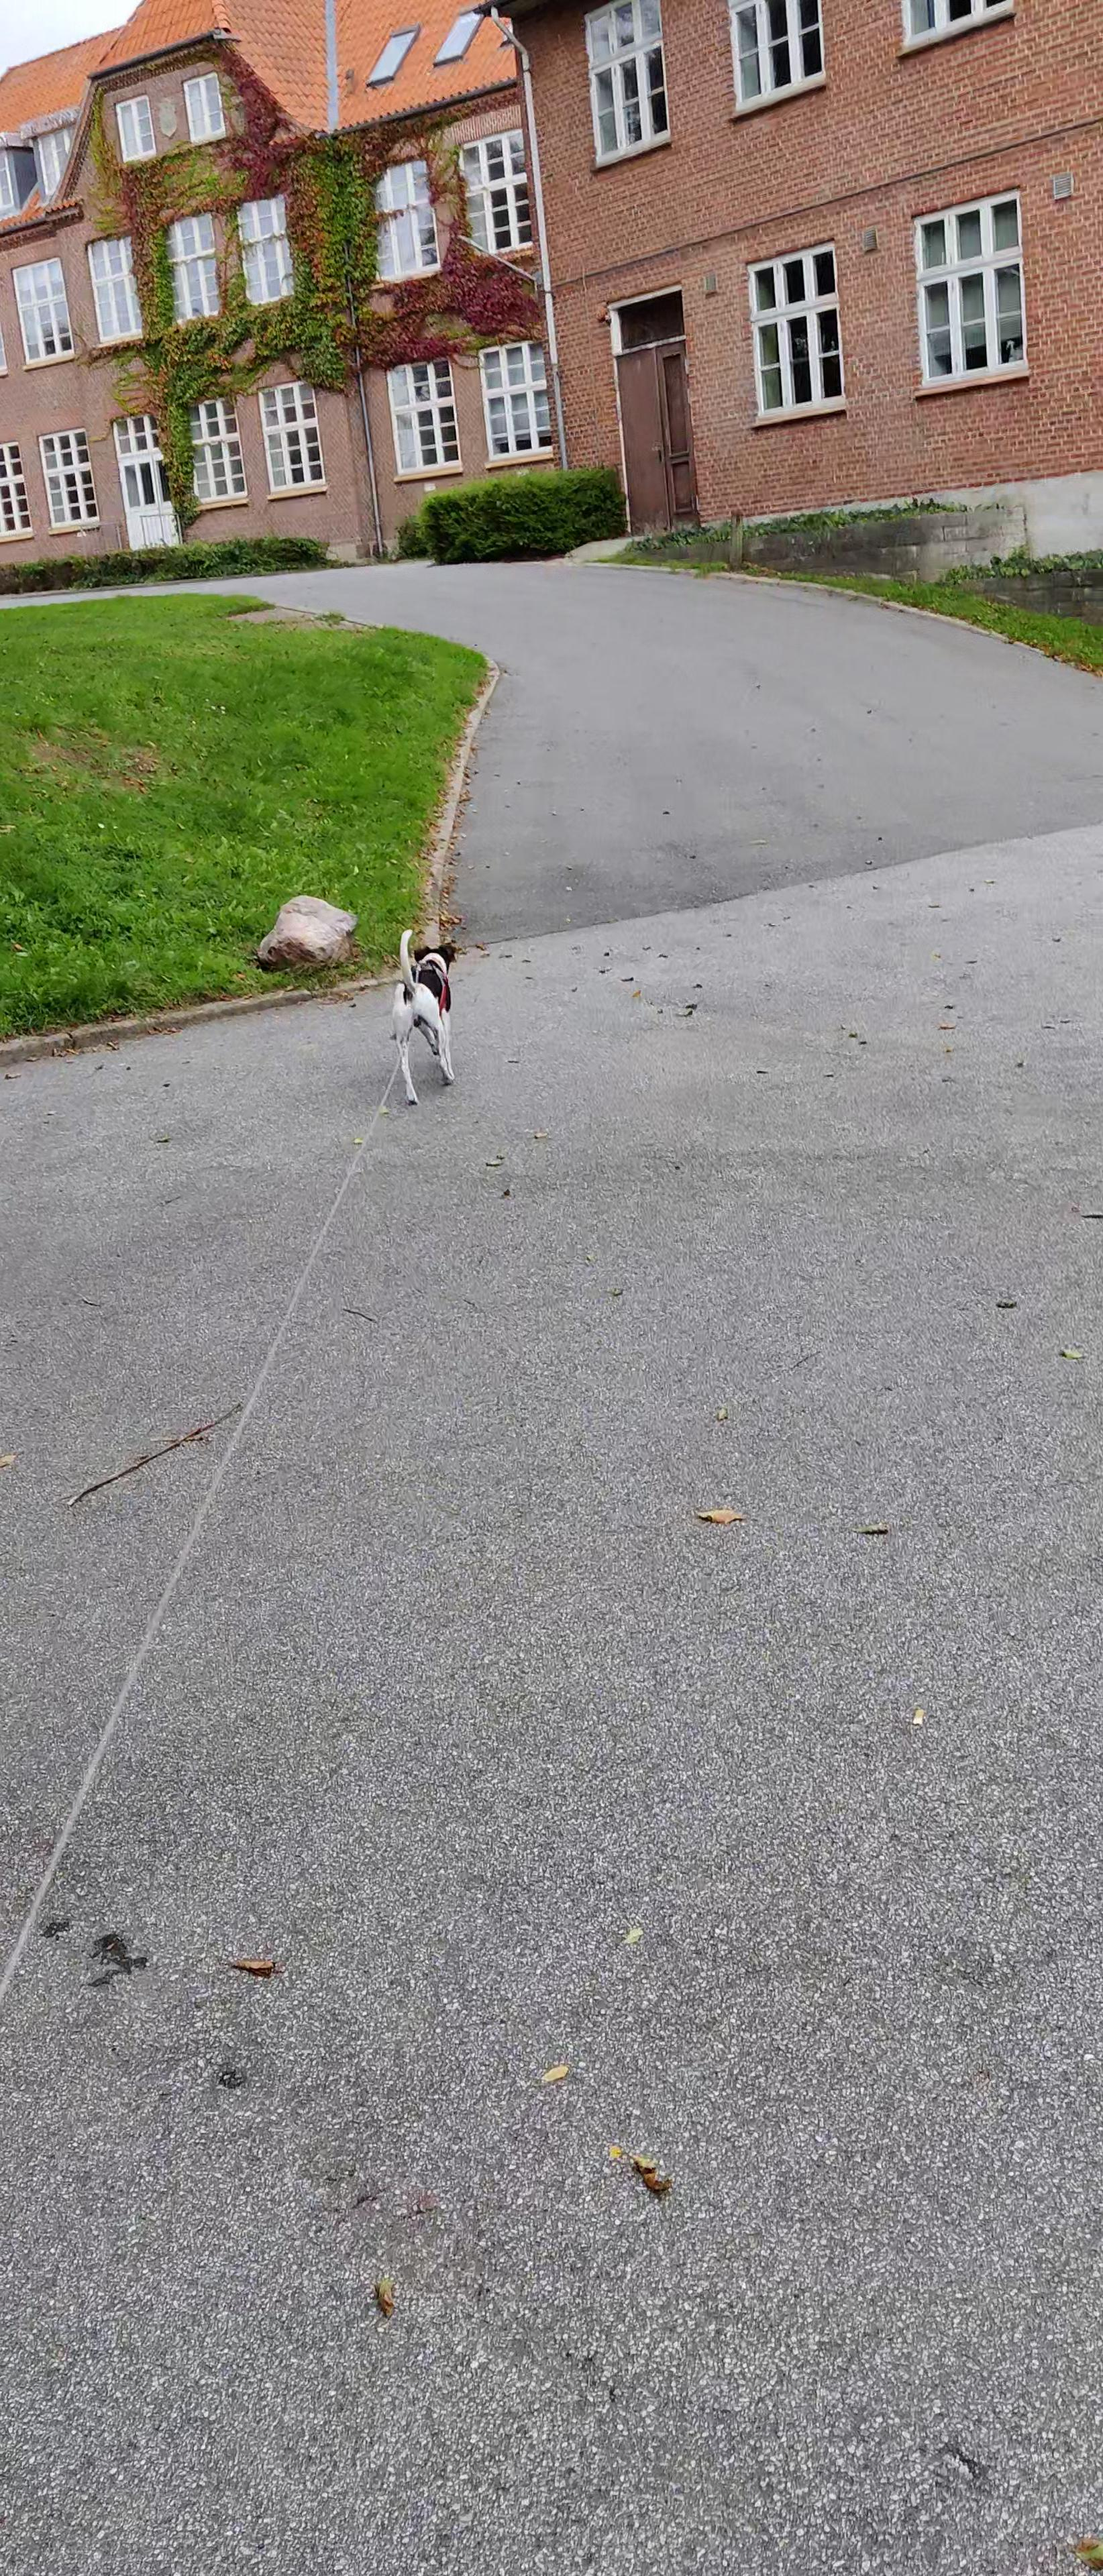Dog: (386, 925, 462, 1107)
